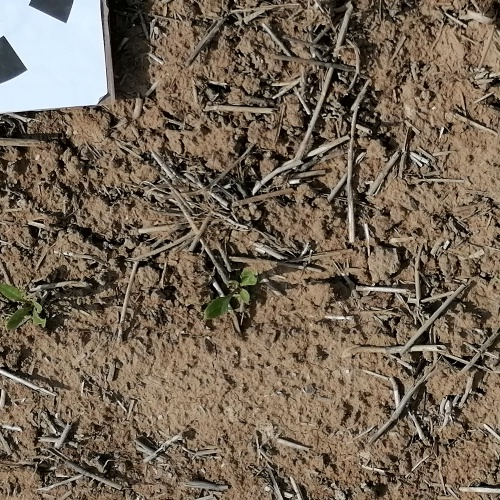beet: (202, 267, 259, 323), (0, 283, 46, 329)
